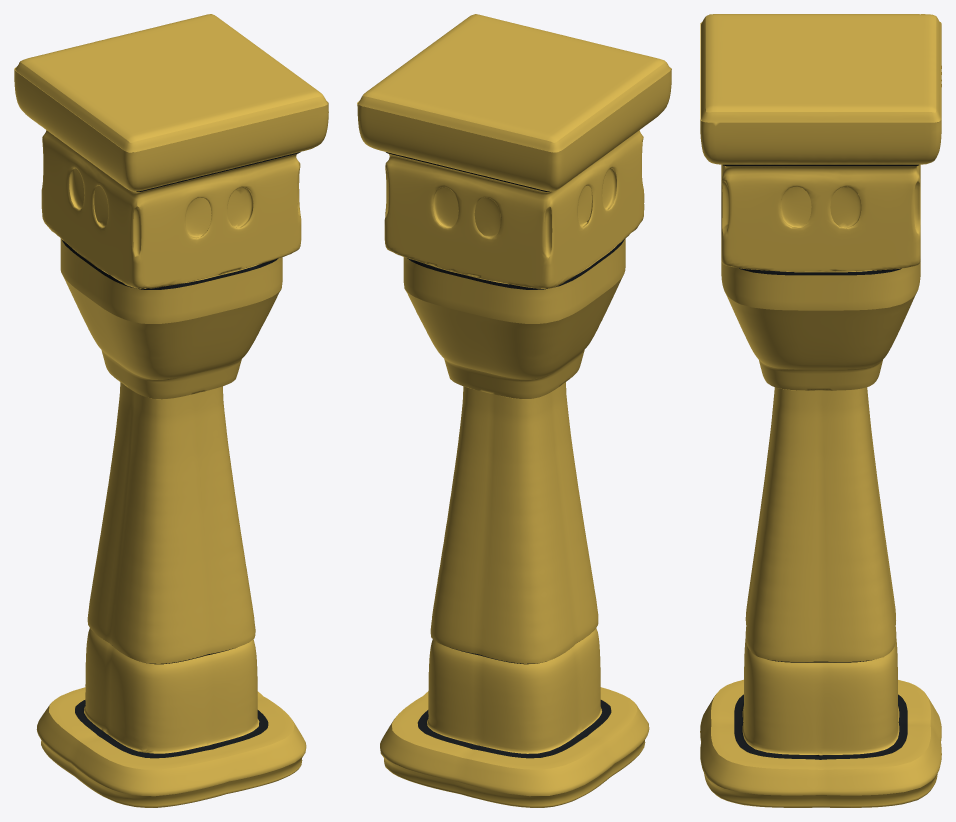
Rendered from Pillar.fbx.
The picture shows the model from 3 angles, left to right: view 1: azimuth 30°, elevation 25°; view 2: azimuth 150°, elevation 25°; view 3: azimuth 270°, elevation 25°; orthographic projection. The views are drawn at different scales.
Visible parts, largest first — view 1: Retopo_Pillar; view 2: Retopo_Pillar; view 3: Retopo_Pillar.
Boxes of the visible parts, bbox=[...] form: Retopo_Pillar: bbox=[14, 14, 328, 807]; Retopo_Pillar: bbox=[357, 14, 671, 807]; Retopo_Pillar: bbox=[700, 14, 941, 807].
Bounding box in the file's own units: 61.83 × 198 × 61.84.
